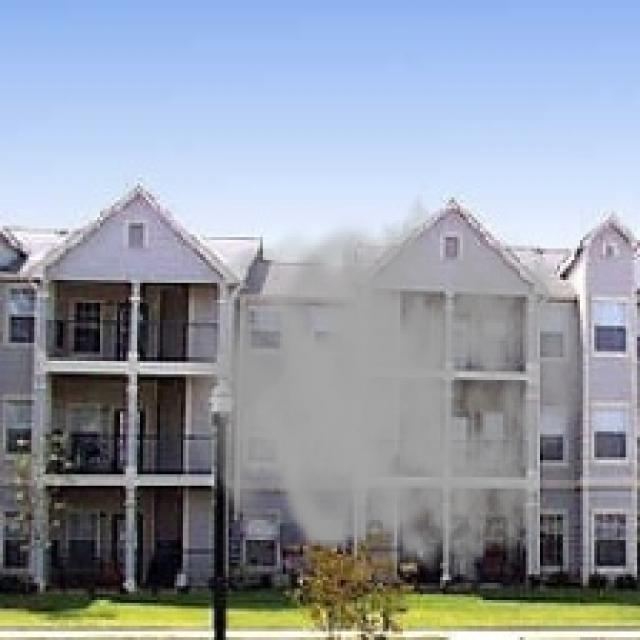Smoke: (188, 174, 592, 586)
